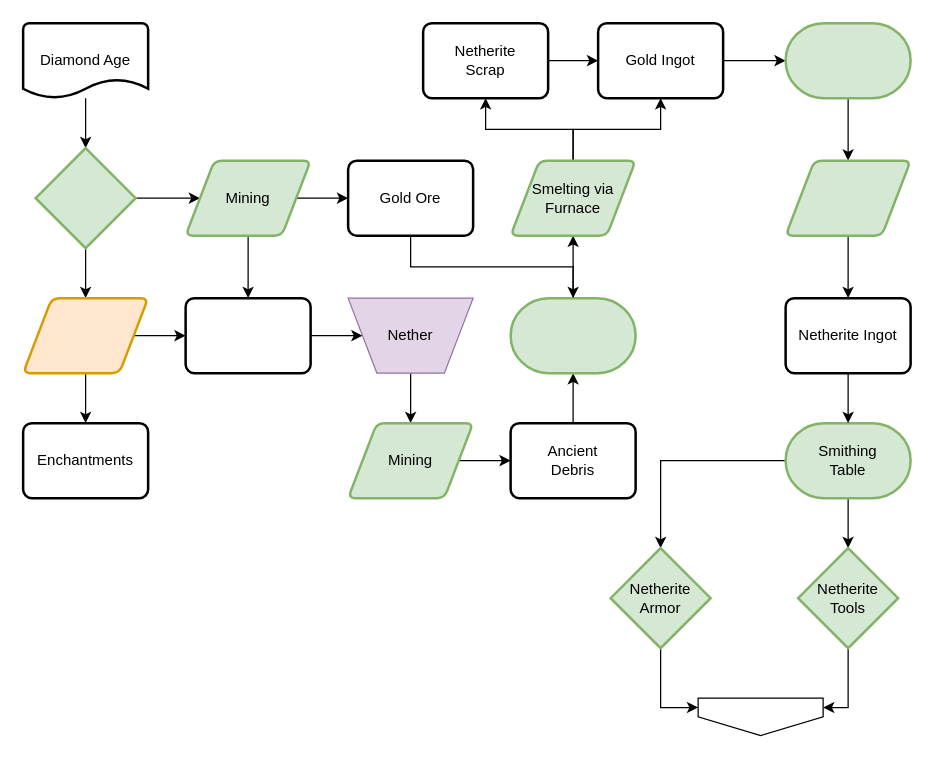
Image size: 933x783. Some labels were removed from this diagram. The shapes that lost their labels are listed below. From the top down, each one's centre as x and y in pixels, then its label:
the point at 847,60: Crafting Table
the point at 85,197: Diamond Tools
the point at 847,197: Crafting via Table
the point at 85,335: Looting and Exploration
the point at 247,335: Obsidian
the point at 572,335: Furnace
the point at 760,716: Neo Age
